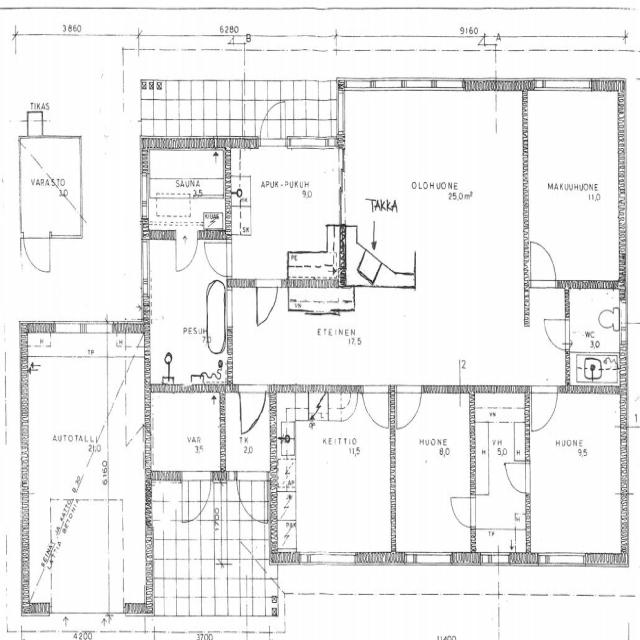door: (477, 418, 532, 531), (256, 97, 291, 152), (526, 236, 561, 289), (236, 385, 268, 435), (530, 385, 560, 433), (21, 230, 52, 276), (394, 384, 424, 431), (361, 385, 391, 430), (541, 312, 572, 353), (254, 280, 279, 328), (448, 490, 476, 531), (203, 238, 230, 277), (174, 231, 198, 274), (504, 457, 530, 495)
window: (535, 74, 592, 96), (137, 234, 153, 298), (538, 549, 586, 570), (306, 549, 356, 569), (410, 548, 453, 568)
zone: (276, 393, 396, 561), (526, 87, 625, 287), (528, 390, 626, 559), (227, 143, 344, 278), (393, 389, 474, 557), (144, 237, 228, 387), (471, 392, 529, 558), (144, 146, 227, 235), (147, 390, 228, 480), (19, 134, 83, 235), (566, 286, 623, 390), (471, 494, 528, 557)
